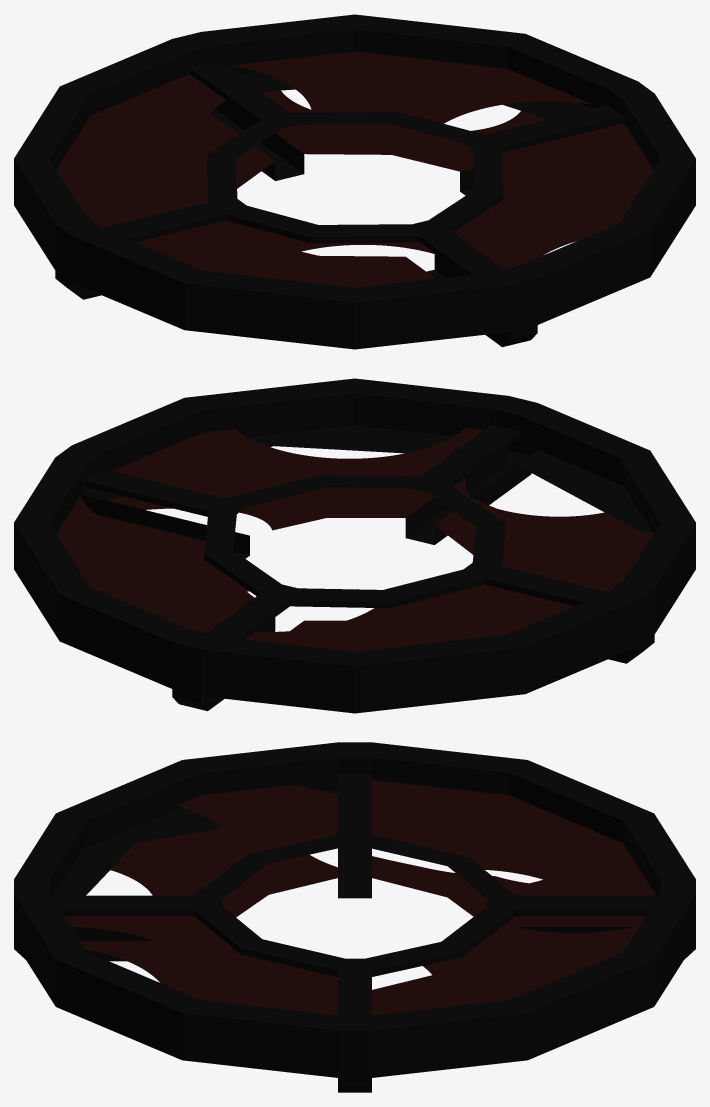
Rendered from SM_SM_Disk_01.fbx.
The picture shows the model from 3 angles, top to bottom: view 1: azimuth 30°, elevation 25°; view 2: azimuth 150°, elevation 25°; view 3: azimuth 270°, elevation 25°; orthographic projection.
Visible parts, largest first — view 1: SM_Disk_01; view 2: SM_Disk_01; view 3: SM_Disk_01.
Boxes of the visible parts, x1=… form: SM_Disk_01: x1=14, y1=14, x2=695, y2=349; SM_Disk_01: x1=14, y1=378, x2=695, y2=713; SM_Disk_01: x1=14, y1=742, x2=695, y2=1092.
Bounding box in the file's own units: 493 × 54.07 × 493.
